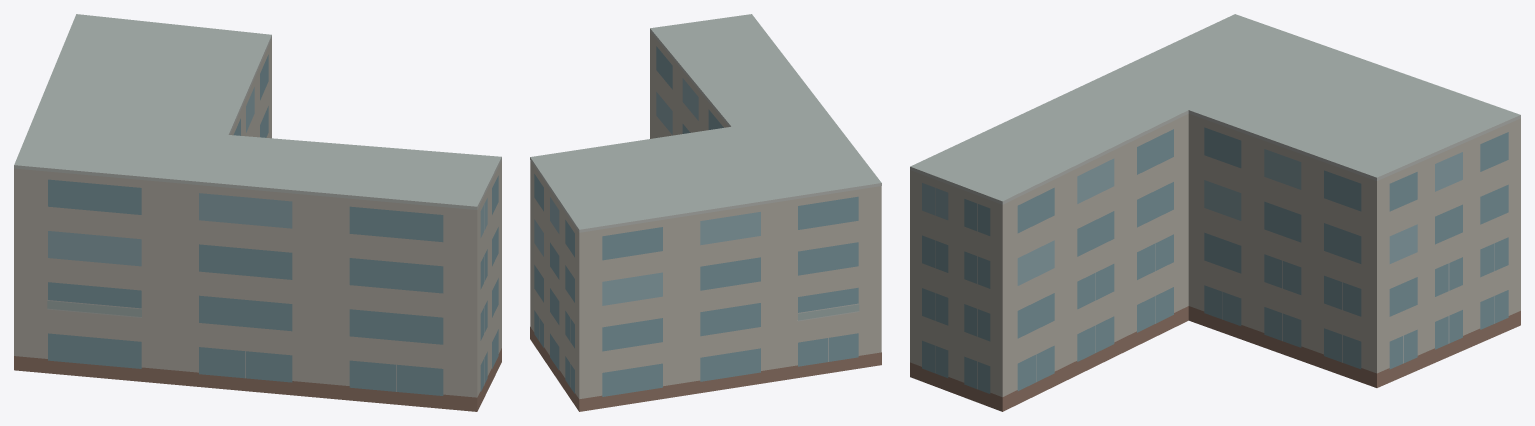
The model's file is survey-upis-33014097.glb.
The picture shows the model from 3 angles, left to right: view 1: azimuth 30°, elevation 25°; view 2: azimuth 150°, elevation 25°; view 3: azimuth 270°, elevation 25°; orthographic projection. The views are drawn at different scales.
Visible parts, largest first — view 1: survey-upis-33014097.tmp; view 2: survey-upis-33014097.tmp; view 3: survey-upis-33014097.tmp.
Boxes of the visible parts, x1=… form: survey-upis-33014097.tmp: x1=14, y1=14, x2=501, y2=411; survey-upis-33014097.tmp: x1=530, y1=14, x2=881, y2=411; survey-upis-33014097.tmp: x1=910, y1=14, x2=1520, y2=411.
Bounding box in the file's own units: 28.27 × 14.8 × 38.93.
